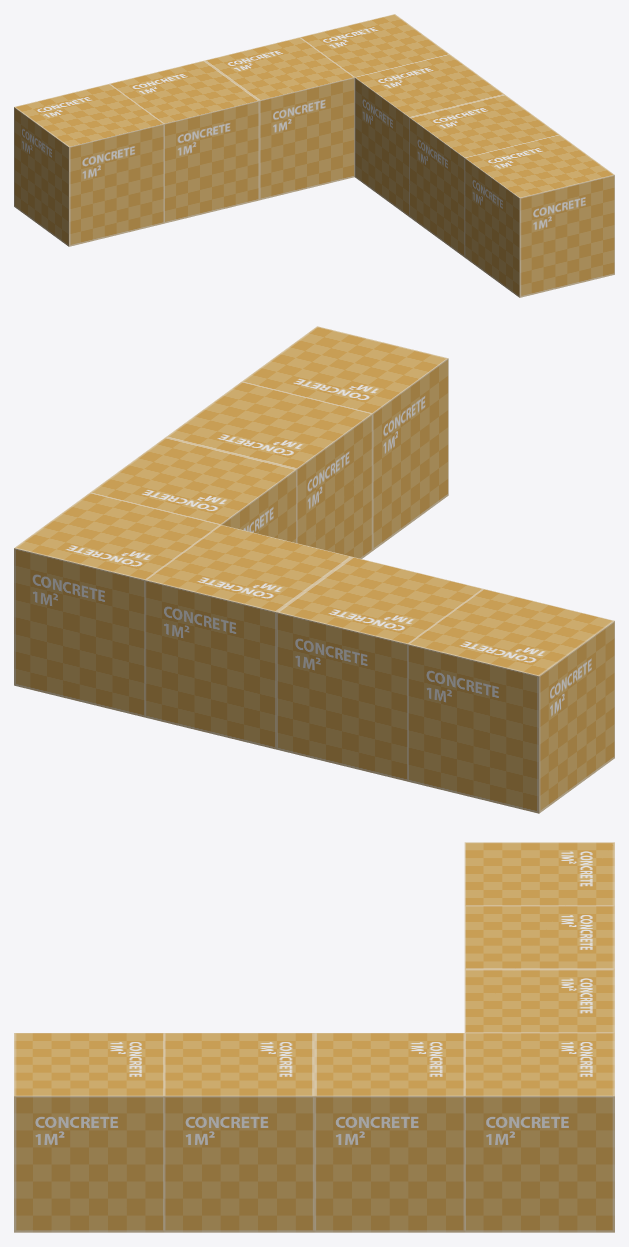
The model's file is construction_edge_concave_08.fbx.
The picture shows the model from 3 angles, top to bottom: view 1: azimuth 30°, elevation 25°; view 2: azimuth 150°, elevation 25°; view 3: azimuth 270°, elevation 25°; orthographic projection. The views are drawn at different scales.
Visible parts, largest first — view 1: construction_edge_concave_08; view 2: construction_edge_concave_08; view 3: construction_edge_concave_08.
Part boxes in pixels (x1,y1,x2,y2): construction_edge_concave_08: [14, 14, 614, 297]; construction_edge_concave_08: [14, 326, 614, 813]; construction_edge_concave_08: [14, 842, 614, 1232].
Size of the model in its own units: 400 by 100 by 400.
